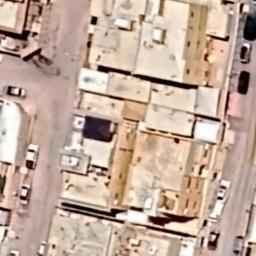sedan: (24, 142, 40, 172), (236, 67, 251, 97), (17, 180, 33, 206), (216, 177, 230, 204), (2, 84, 28, 98), (244, 10, 256, 40), (207, 228, 221, 252), (240, 40, 252, 66), (36, 239, 47, 256), (7, 249, 21, 256)
